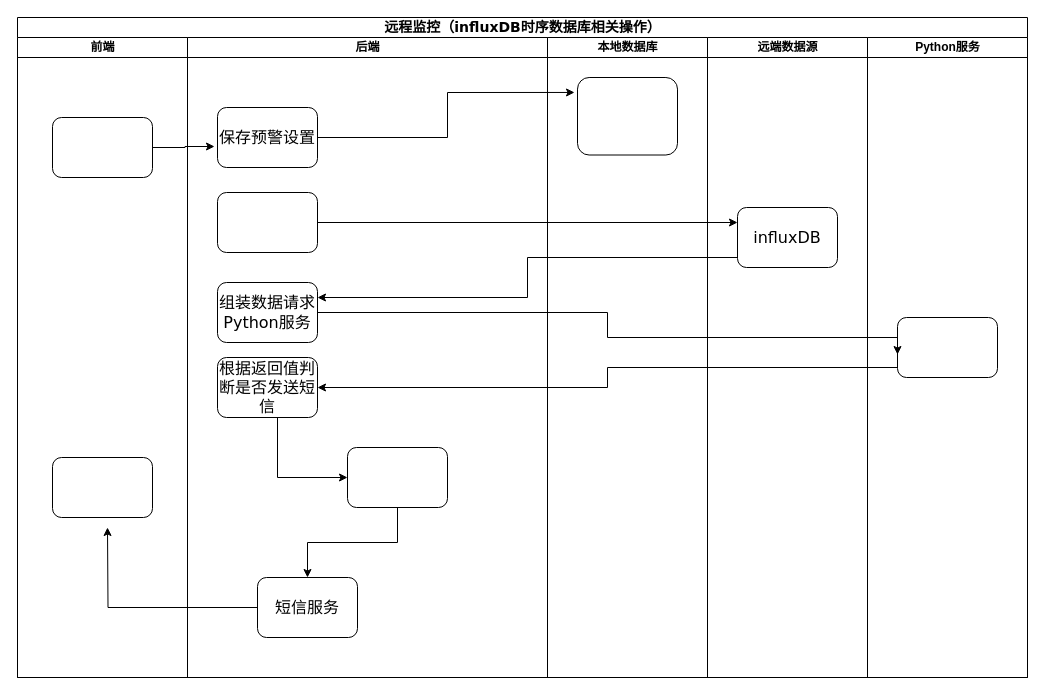
This 1045x695 diagram has some shape labels left out. Each missing label, with the centre of its shape:
"定时发送获取被监控项的数据" belongs at point (267, 222).
"数据库" belongs at point (627, 115).
"消息队列" belongs at point (397, 477).
"用户短信" belongs at point (102, 487).
"用户输入influxDB预警信息" belongs at point (102, 147).
"预测 返回true false" belongs at point (947, 347).
